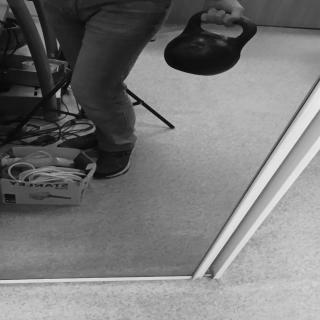kettlebell: (167, 12, 260, 76)
